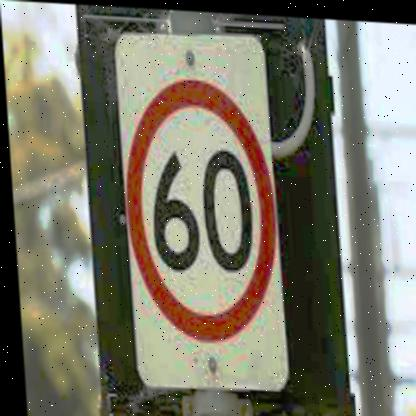Speed Limit -60-: (115, 69, 282, 343)
